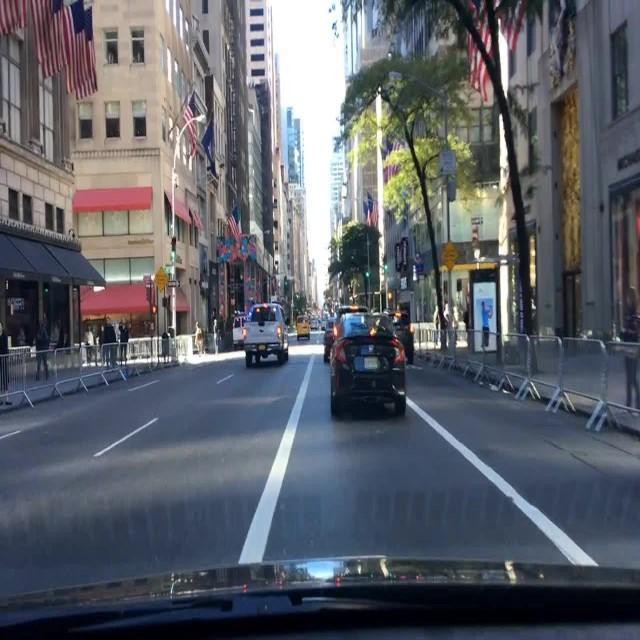normal: (328, 331, 409, 418), (242, 303, 292, 369)
